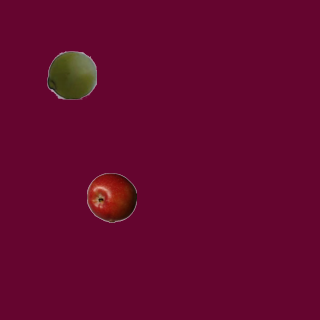Apple Braeburn: (86, 172, 136, 222)
Grape White 4: (46, 49, 96, 99)
